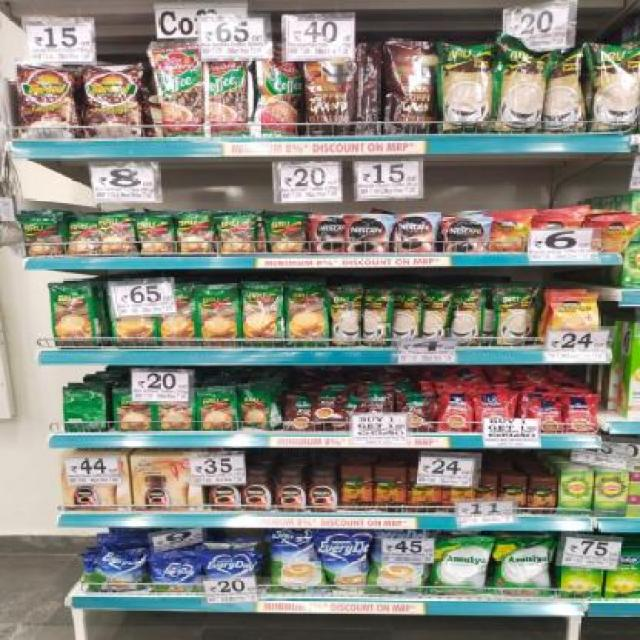Coffee: (444, 217, 487, 252), (394, 216, 435, 252), (347, 216, 388, 252), (491, 214, 529, 252), (598, 216, 636, 252), (308, 471, 339, 512), (312, 215, 346, 252), (210, 470, 241, 510), (242, 471, 272, 512), (276, 472, 306, 512)
